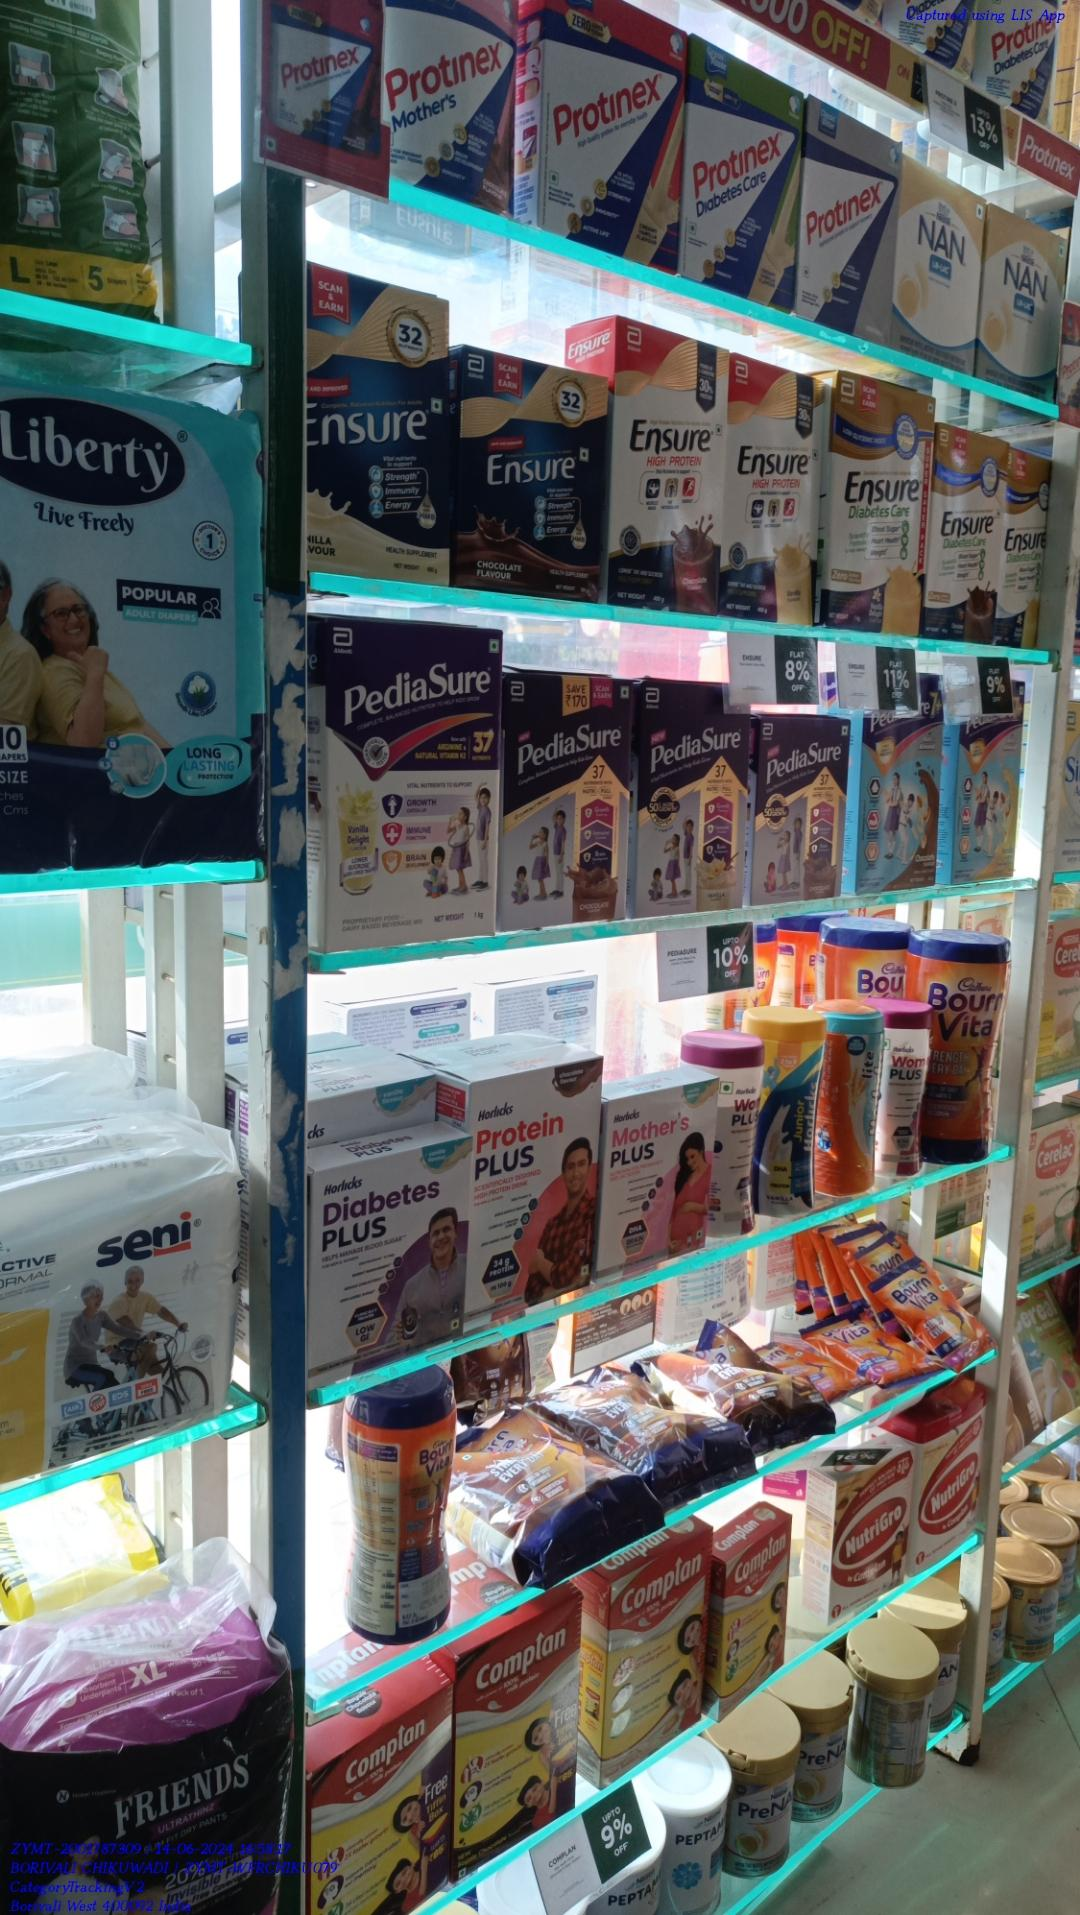BOURN_VITA_1_KG_JAR: (933, 936, 1002, 1164)
COMPLAN_CHOCOLATE_500_GMS_PACK: (455, 1590, 581, 1877)
COMPLAN_KESAR_BADAM_200_GMS_PACK: (725, 1526, 791, 1715)
COMPLAN_KESAR_BADAM_500_GMS_PACK: (599, 1552, 710, 1791)
ENSURE_VANILLA_400_G_PACK: (305, 263, 451, 580)
PEDIASURE_CHOCOLATE_500_G_PACK: (501, 671, 630, 921), (756, 714, 850, 901)
PEDIASURE_VANILLA_500_G_PACK: (638, 679, 747, 910)
